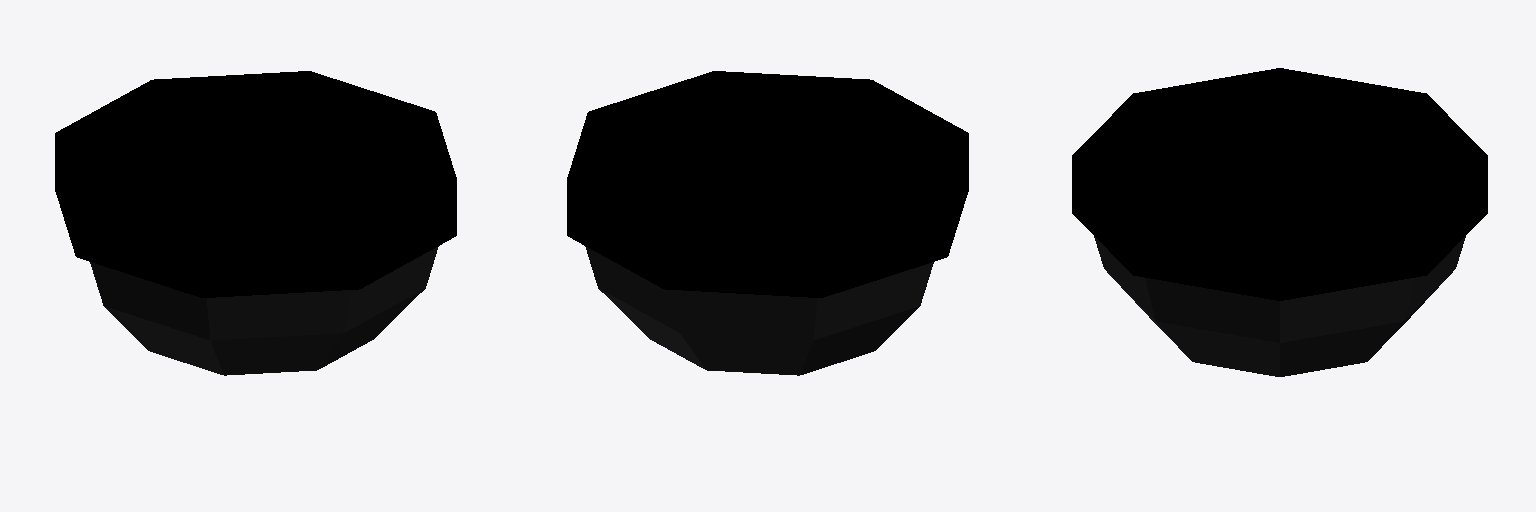
The model's file is CeilingLamp5.obj.
3 renders of one model, left to right at view 1: azimuth 30°, elevation 25°; view 2: azimuth 150°, elevation 25°; view 3: azimuth 270°, elevation 25°, orthographic.
Visible parts, largest first — view 1: CeilingLamp5_Cylinder.002; view 2: CeilingLamp5_Cylinder.002; view 3: CeilingLamp5_Cylinder.002.
Part boxes in pixels (bbox=[...]): CeilingLamp5_Cylinder.002: bbox=[55, 71, 456, 375]; CeilingLamp5_Cylinder.002: bbox=[567, 71, 968, 375]; CeilingLamp5_Cylinder.002: bbox=[1072, 68, 1487, 376].
Size of the model in its own units: 0.6076 by 0.3234 by 0.6076.